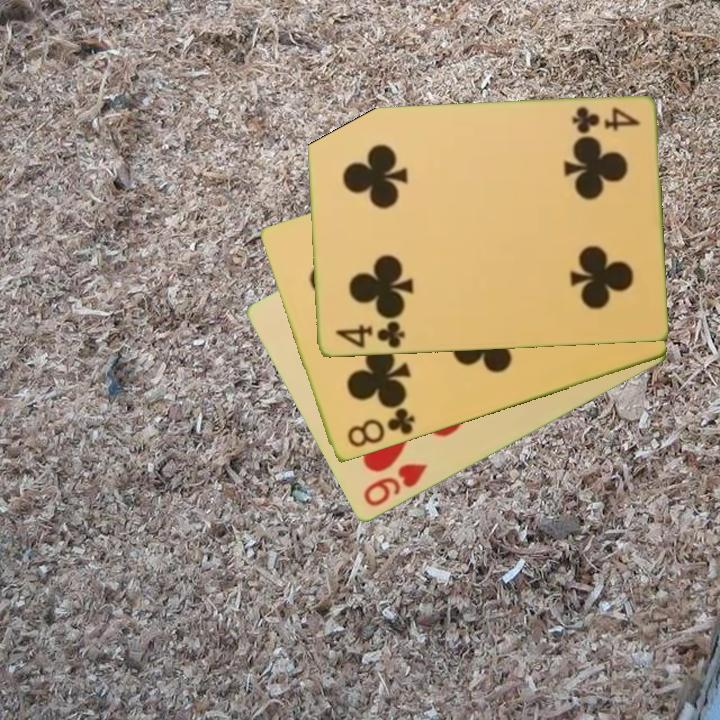4c: (332, 318, 407, 351), (568, 103, 642, 136)
8c: (343, 405, 418, 451)
9h: (359, 460, 430, 511)
